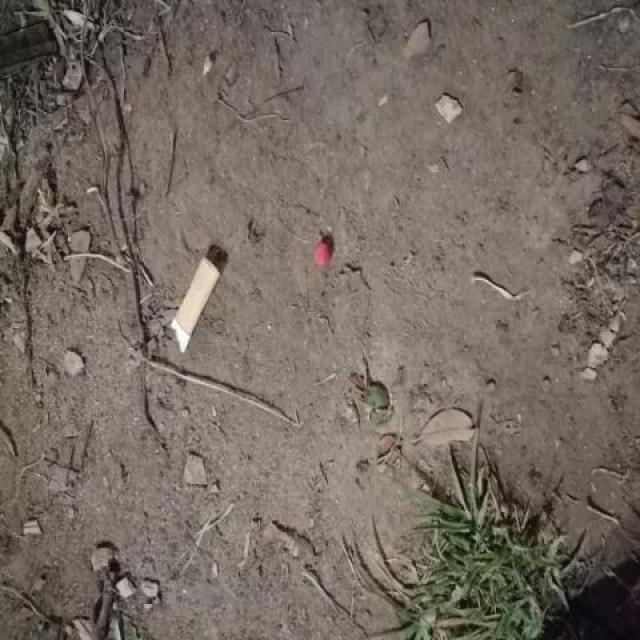non-organic waste: (167, 254, 221, 358)
